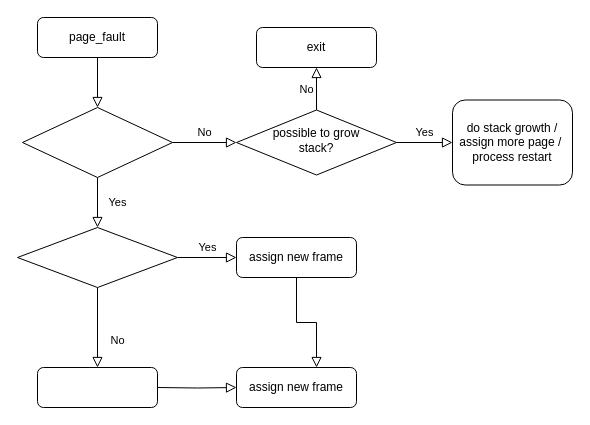
This 590x425 diagram has some shape labels left out. The centre of each missing label's shape, as x and y in pixels:
"possible to assign new frame?" belongs at pixel 97 257.
"swap-in/out" belongs at pixel 97 387.
"valid address access?" belongs at pixel 97 142.
